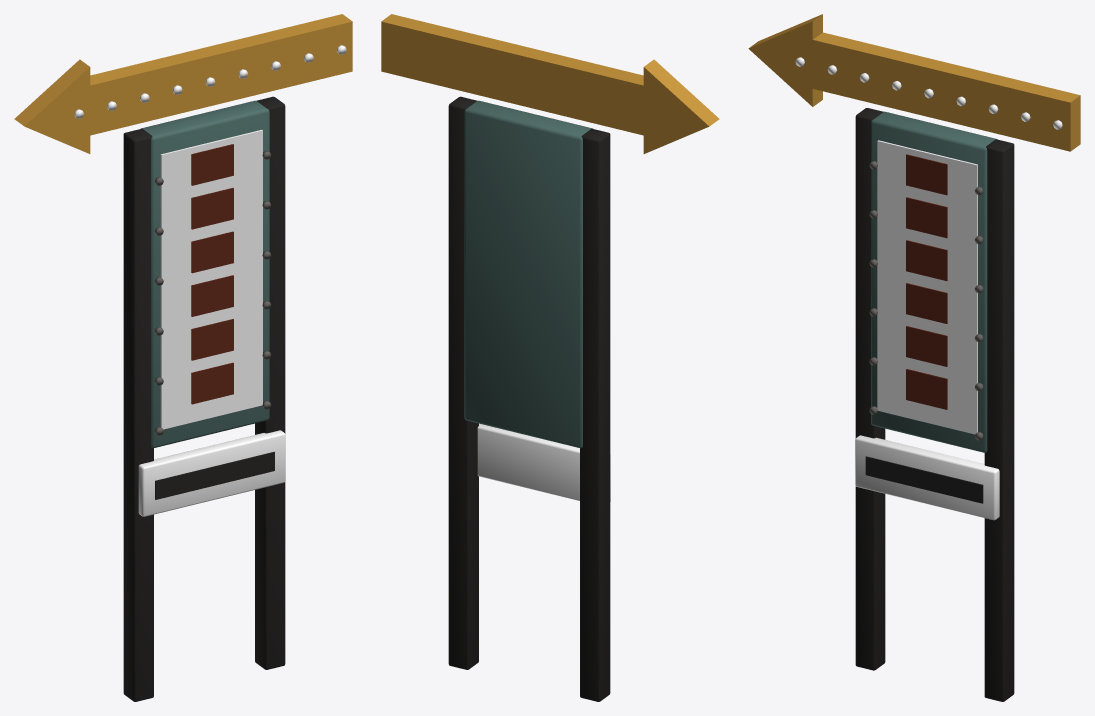
The model's file is bld_motel_sign.glb.
3 views of the same model, side by side, from view 1: azimuth 30°, elevation 25°; view 2: azimuth 150°, elevation 25°; view 3: azimuth 330°, elevation 25° (orthographic).
Visible parts, largest first — view 1: ms_bladeface, ms_arrow, ms_leg, ms_leg.001, ms_blade, ms_vac, ms_vactext, ms_letter0, ms_letter3, ms_letter5, ms_letter1, ms_letter2 (+1 smaller); view 2: ms_blade, ms_arrow, ms_leg, ms_leg.001, ms_vac; view 3: ms_bladeface, ms_arrow, ms_leg.001, ms_leg, ms_blade, ms_vac, ms_vactext, ms_letter0, ms_letter1, ms_letter2, ms_letter3, ms_letter4 (+1 smaller).
Boxes of the visible parts, <box> form: ms_bladeface: <box>160,130,262,429</box>; ms_arrow: <box>14,14,352,153</box>; ms_leg: <box>123,128,153,701</box>; ms_leg.001: <box>255,96,285,669</box>; ms_blade: <box>141,100,269,448</box>; ms_vac: <box>138,430,285,516</box>; ms_vactext: <box>155,451,274,499</box>; ms_letter0: <box>191,362,233,404</box>; ms_letter3: <box>191,231,233,273</box>; ms_letter5: <box>191,144,233,185</box>; ms_letter1: <box>191,319,233,360</box>; ms_letter2: <box>191,275,233,316</box>; ms_blade: <box>464,100,592,448</box>; ms_arrow: <box>381,14,719,153</box>; ms_leg: <box>580,128,610,701</box>; ms_leg.001: <box>448,96,478,669</box>; ms_vac: <box>477,423,610,501</box>; ms_bladeface: <box>877,140,977,434</box>; ms_arrow: <box>748,14,1080,151</box>; ms_leg.001: <box>984,139,1014,701</box>; ms_leg: <box>855,108,885,670</box>; ms_blade: <box>871,111,997,452</box>; ms_vac: <box>855,435,999,520</box>; ms_vactext: <box>865,456,983,503</box>; ms_letter0: <box>906,369,947,409</box>; ms_letter1: <box>906,326,947,366</box>; ms_letter2: <box>906,283,947,323</box>; ms_letter3: <box>906,240,947,280</box>; ms_letter4: <box>906,197,947,238</box>.
Size of the model in its own units: 5.5 by 10.35 by 0.52.
